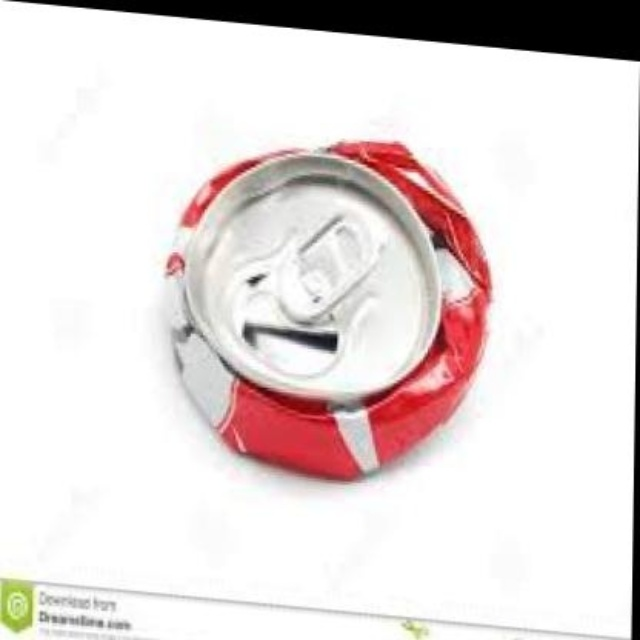trash: (166, 142, 489, 478)
